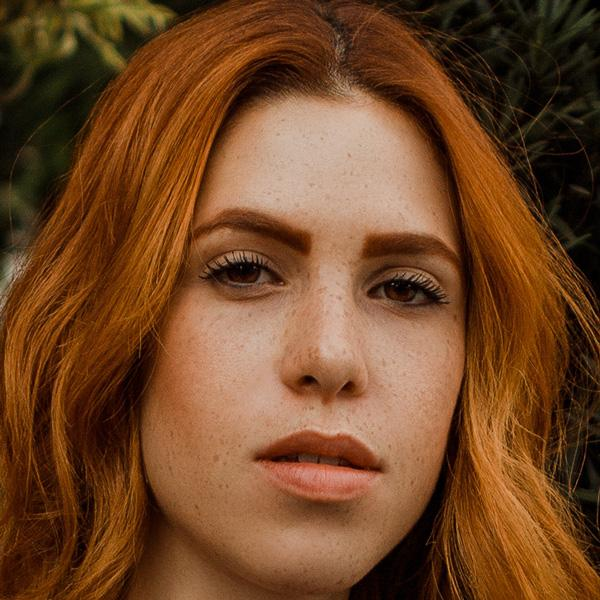Eyes: (194, 242, 298, 307), (356, 258, 450, 318)
